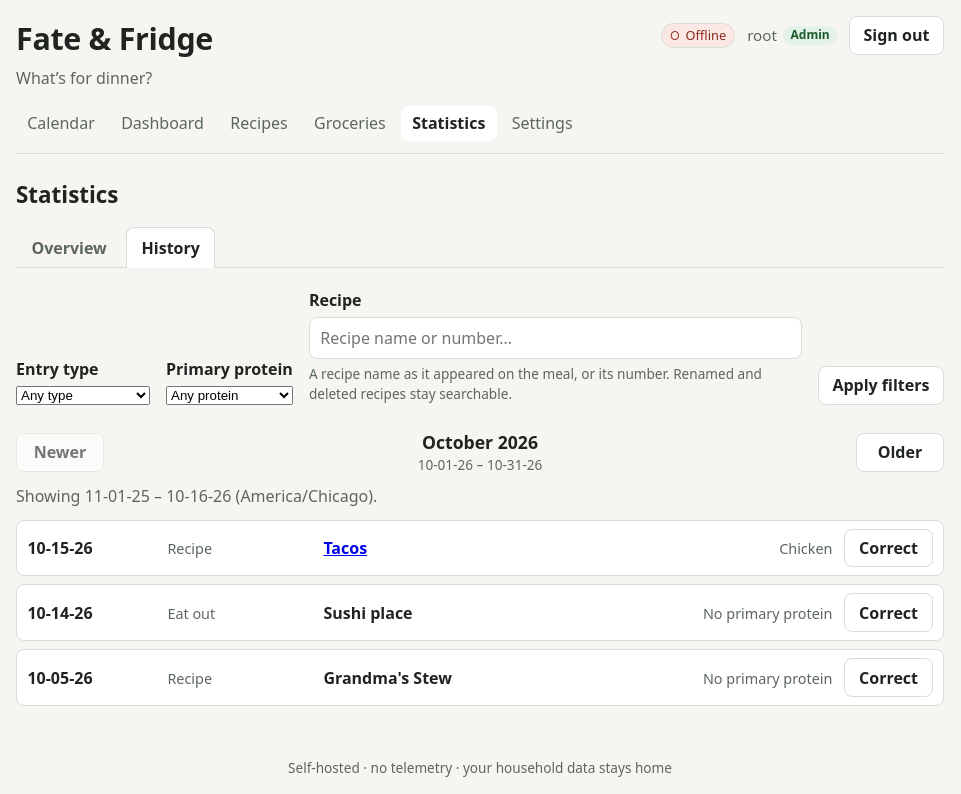
Test: meal-history browser › starts on the API default page and pages with the newer/older cursors
Expected: the element "October 2026" is shown, [16,429,944,706]
Expected: the button with aria-label "Newer month" is disabled, [16,433,104,472]
Click the button with aria-label "Older month: Sep 2026".
click(900, 452)  # box [856,433,944,472]
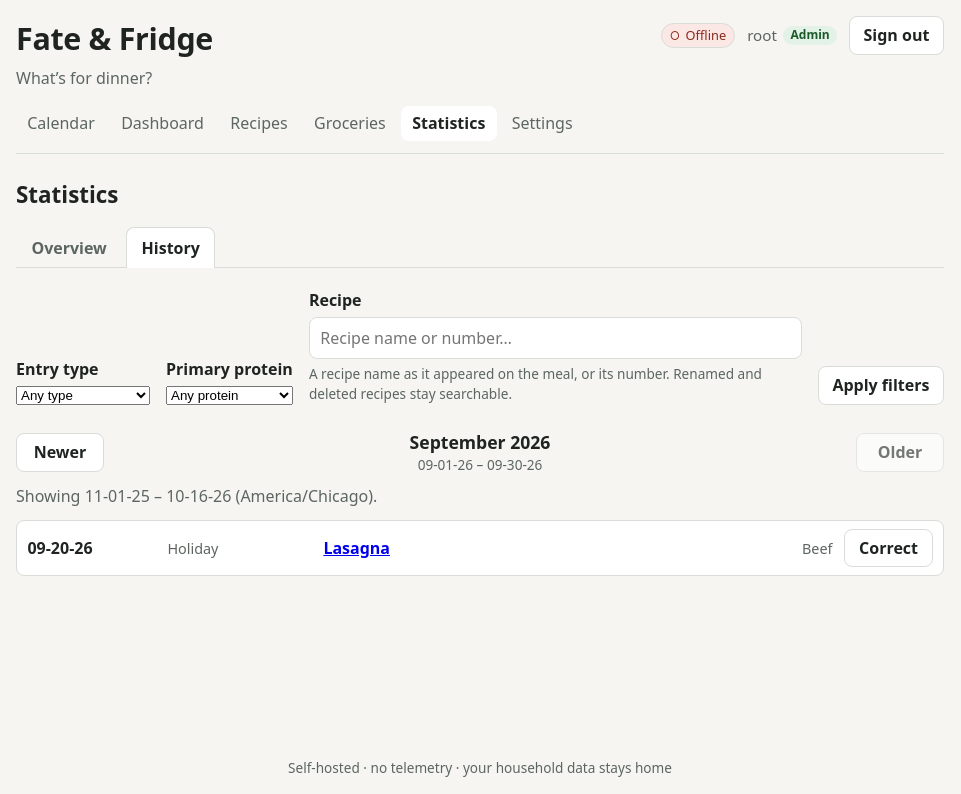
Expected: the element "September 2026" is shown, [16,429,944,576]
Expected: the button with aria-label "Older month" is disabled, [856,433,944,472]
Expected: the button with aria-label "Newer month: Oct 2026" is enabled, [16,433,104,472]
